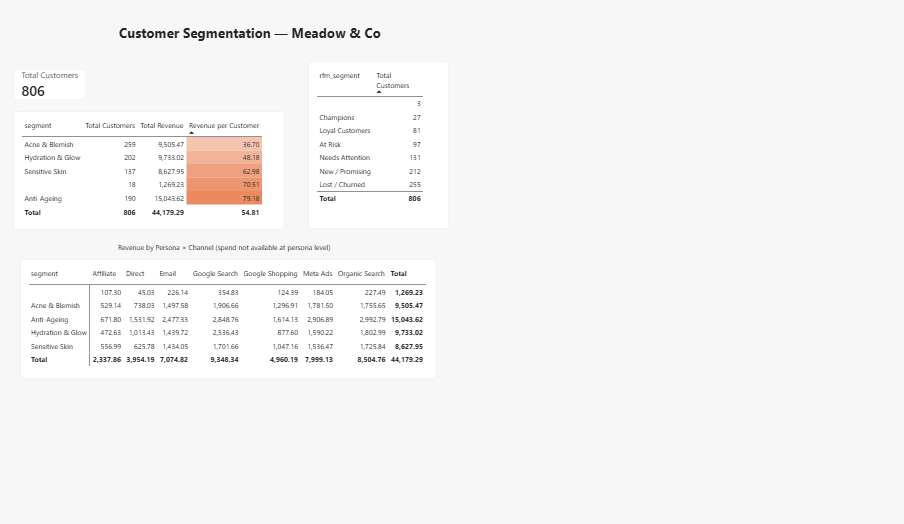

The page's visual inventory and layout, read from the dashboard file:
{"tool":"powerbi","page":{"name":"Customer Segmentation","canvas":[1920,1080],"ordinal":1},"visuals":[{"type":"tableEx","fields":{"Values":["Customer RFM.rfm_segment","_Measures.Total Customers"]},"box":[592,170,252,295],"z":0},{"type":"cardVisual","fields":{"Data":["_Measures.Total Customers"]},"box":[26.7,138.3,146.2,62.3],"z":2},{"type":"tableEx","fields":{"Values":["Customers.segment","_Measures.Total Customers","_Measures.Total Revenue","_Measures.Revenue per Customer"]},"box":[26.8,221.3,543.3,236.7],"z":3},{"type":"textbox","box":[238.3,45,560,66.7],"z":4},{"type":"pivotTable","fields":{"Columns":["Channel.channel"],"Rows":["Customers.segment"],"Values":["_Measures.Total Revenue"]},"box":[39.1,517.3,833.6,239.1],"z":5},{"type":"textbox","box":[232.2,484.4,446.7,42.2],"z":6}]}

Visuals, with their boxes in screenshot pixels (x1, y1, x2, y2), scaled from the page's 1920x1080 canvas onto the 904x524 screenshot:
tableEx - Customer RFM.rfm_segment x _Measures.Total Customers: 279:82:397:226
cardVisual - _Measures.Total Customers: 13:67:81:97
tableEx - Customers.segment x _Measures.Total Customers: 13:107:268:222
textbox: 112:22:376:54
pivotTable - Channel.channel x Customers.segment: 18:251:411:367
textbox: 109:235:320:255
